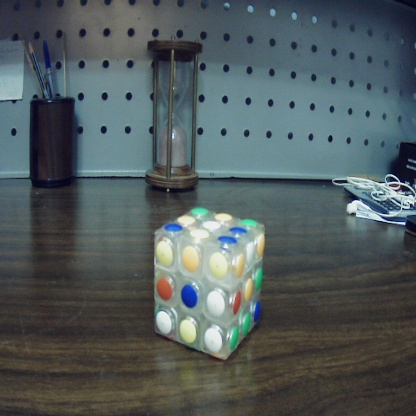Rubix Cube: (153, 205, 267, 363)
